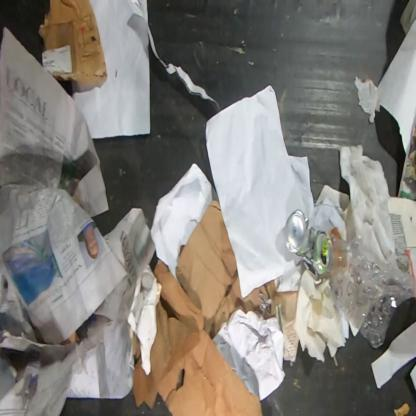cardboard: (176, 198, 298, 362), (132, 297, 263, 415), (39, 0, 108, 85), (154, 259, 206, 329), (393, 403, 410, 415)
metal: (284, 210, 333, 274)
soft_plastic: (326, 233, 416, 348)
